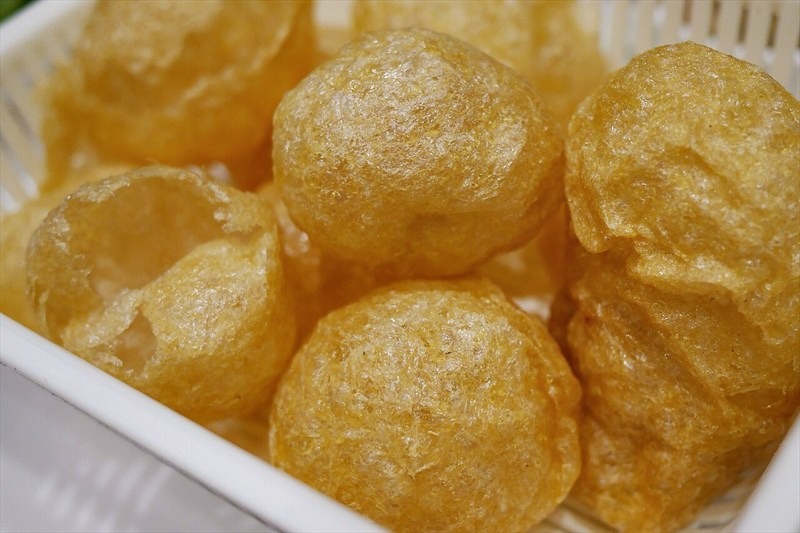Tahu Goreng: (152, 115, 708, 476)
